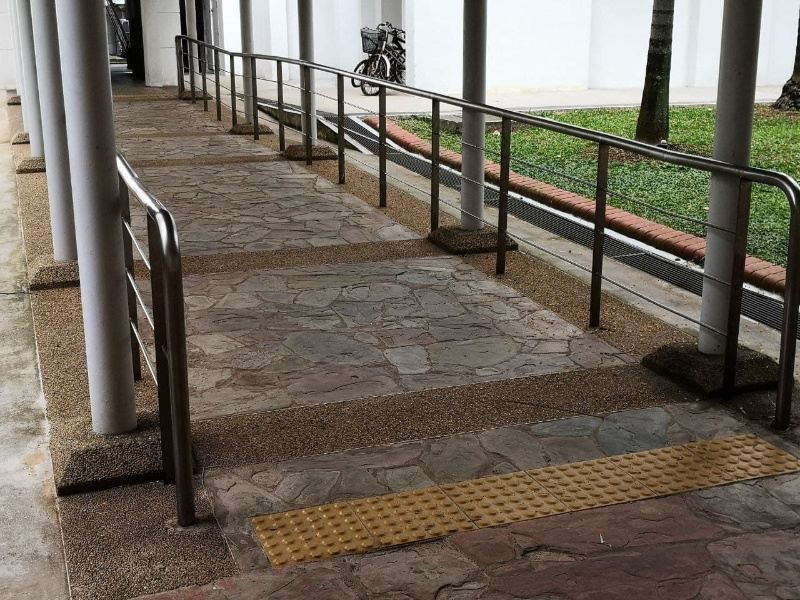slope: (23, 36, 800, 501)
